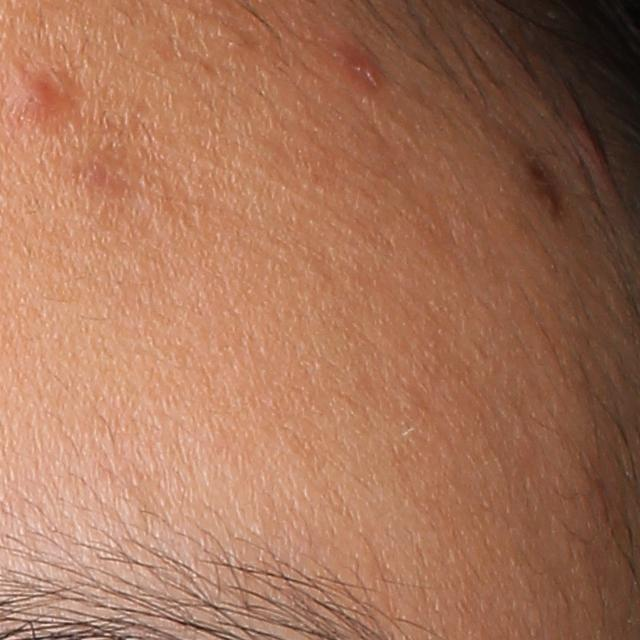papule: (328, 42, 387, 91), (576, 119, 620, 174)
